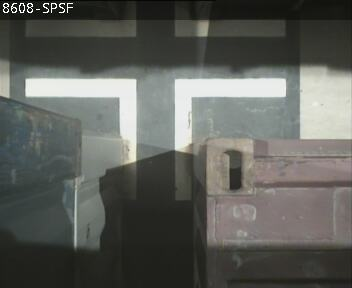groundmarker_1: (25, 77, 283, 198)
